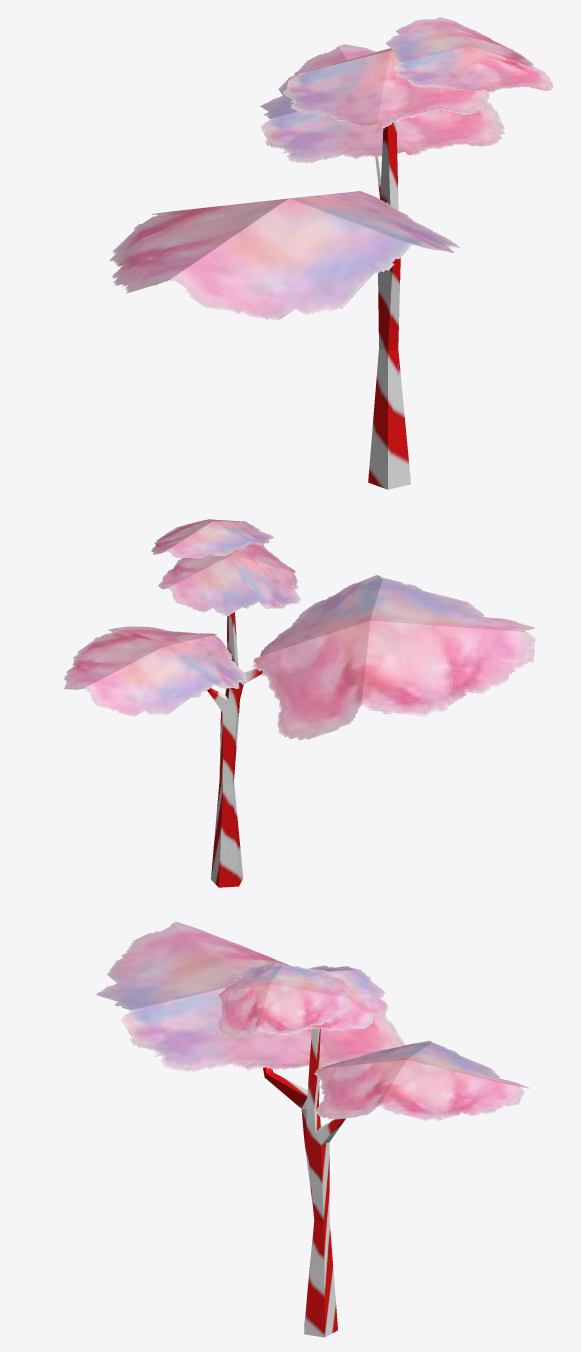
File: Tree1.fbx
3 renders of one model, top to bottom at view 1: azimuth 30°, elevation 25°; view 2: azimuth 150°, elevation 25°; view 3: azimuth 270°, elevation 25°, orthographic. The views are drawn at different scales.
Visible parts, largest first — view 1: pPlane2, pPlane1, pPlane5, pPlane3, Tree; view 2: pPlane2, pPlane1, pPlane5, Tree, pPlane3; view 3: pPlane2, pPlane1, pPlane3, Tree, pPlane5.
Part boxes in pixels (x1=…): pPlane2: x1=109, y1=191, x2=460, y2=320; pPlane1: x1=260, y1=44, x2=504, y2=163; pPlane5: x1=283, y1=48, x2=489, y2=128; pPlane3: x1=385, y1=17, x2=553, y2=92; Tree: x1=368, y1=122, x2=410, y2=489; pPlane2: x1=253, y1=575, x2=535, y2=740; pPlane1: x1=63, y1=626, x2=247, y2=716; pPlane5: x1=158, y1=542, x2=300, y2=616; Tree: x1=207, y1=612, x2=262, y2=887; pPlane3: x1=151, y1=519, x2=273, y2=558; pPlane2: x1=95, y1=921, x2=404, y2=1071; pPlane1: x1=314, y1=1040, x2=530, y2=1121; pPlane3: x1=217, y1=962, x2=353, y2=1037; Tree: x1=263, y1=1028, x2=345, y2=1337; pPlane5: x1=303, y1=965, x2=387, y2=1030.
Bounding box in the file's own units: 0.3367 × 0.2519 × 0.3444.
2 materials, 2 textured.
